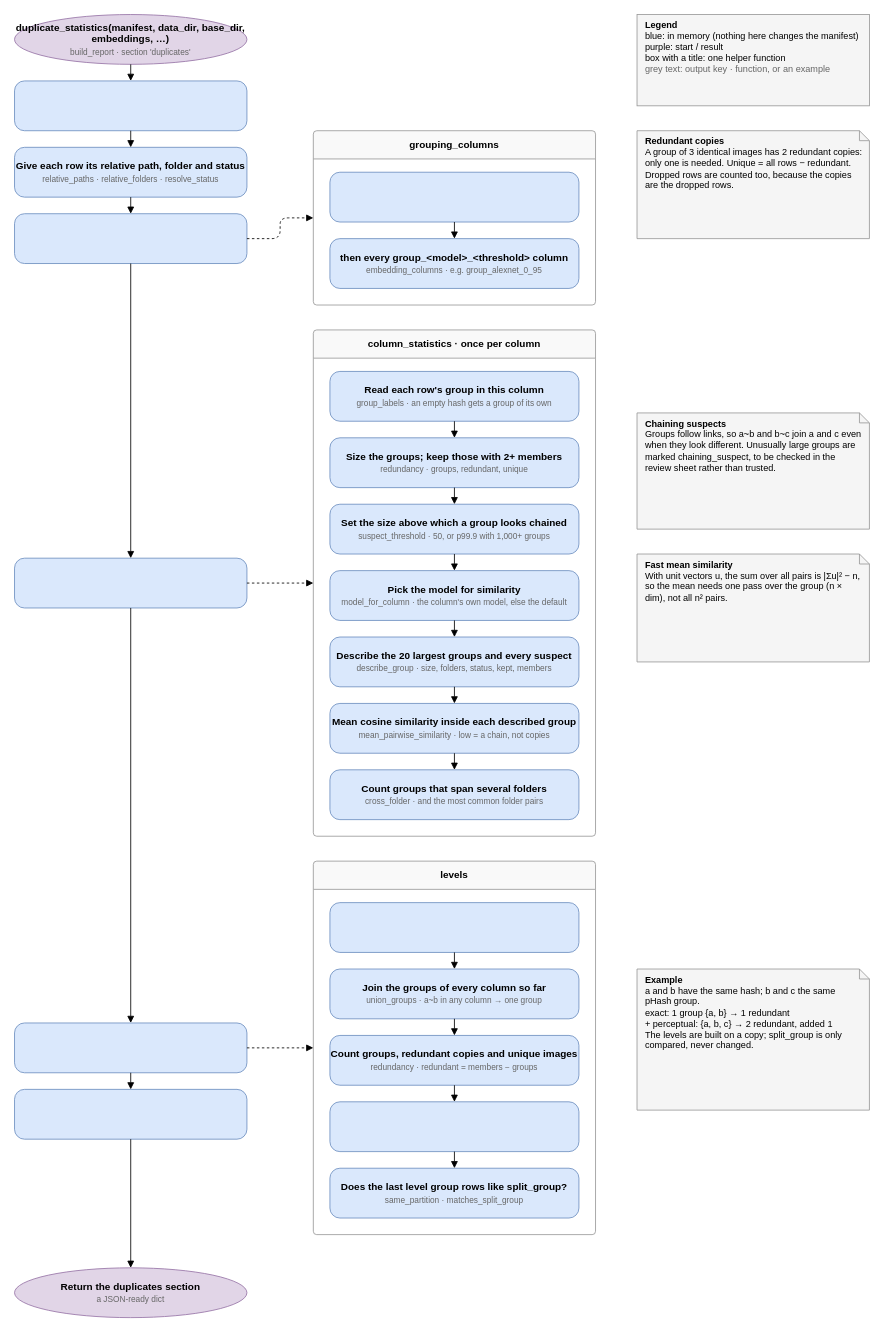
This 884x1332 diagram has some shape labels left out. The centre of each missing label's shape, as x and y in pixels:
"Describe the groups of each column columns · column_statistics" belongs at pixel 130 582.
"Find the columns that define groups grouping_columns" belongs at pixel 130 238.
"hash, group_id and split_group, if present exact · duplicate · split" belongs at pixel 454 196.
"Levels: exact (hash), + perceptual (group_id), + each embedding column" belongs at pixel 454 927.
"List the models used for similarity similarity_models" belongs at pixel 130 1114.
"Measure redundancy level by level levels · matches_split_group" belongs at pixel 130 1047.
"Pick the default similarity model the first model by name, if none was given" belongs at pixel 130 105.
"What this level adds over the previous one added_redundant" belongs at pixel 454 1126.
